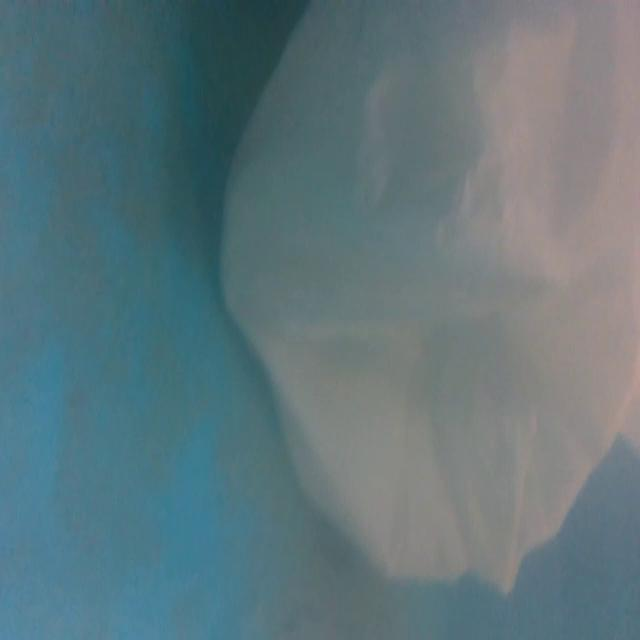plastic bags: (217, 0, 640, 595)
